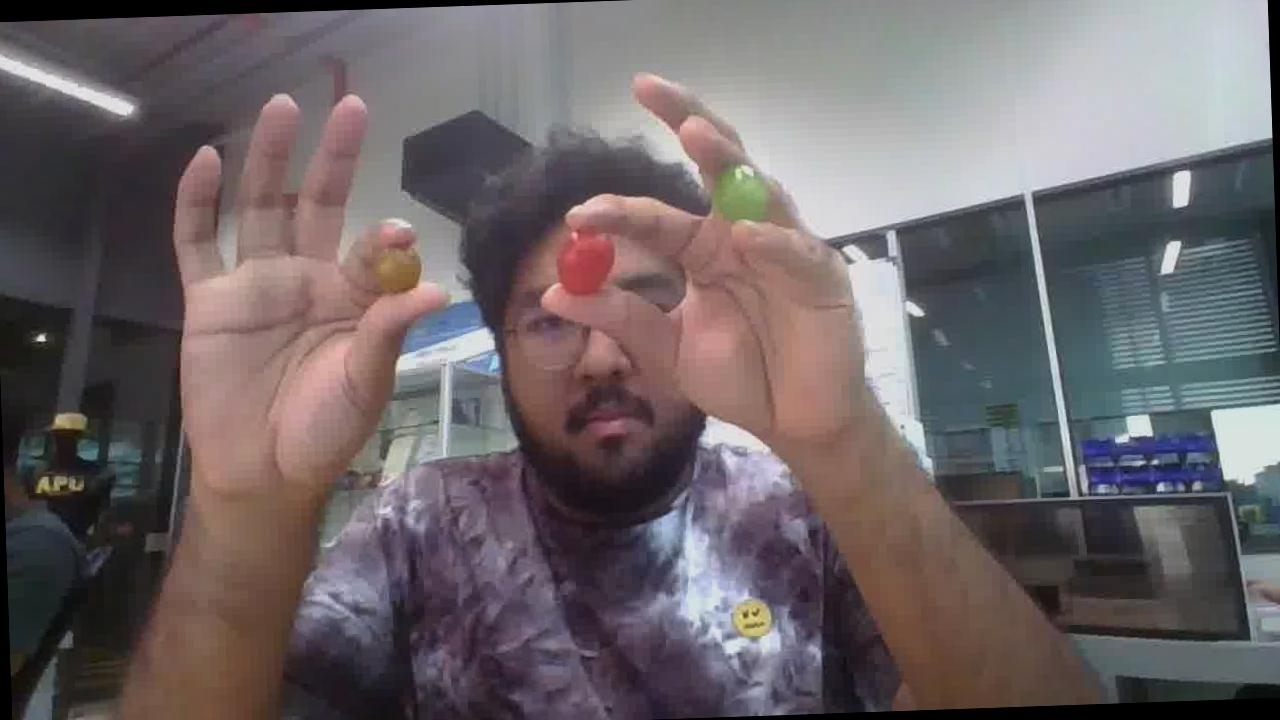green_cherry_tomato: (711, 164, 769, 221)
red_cherry_tomato: (557, 230, 614, 294)
yellow_cherry_tomato: (375, 249, 420, 291)
